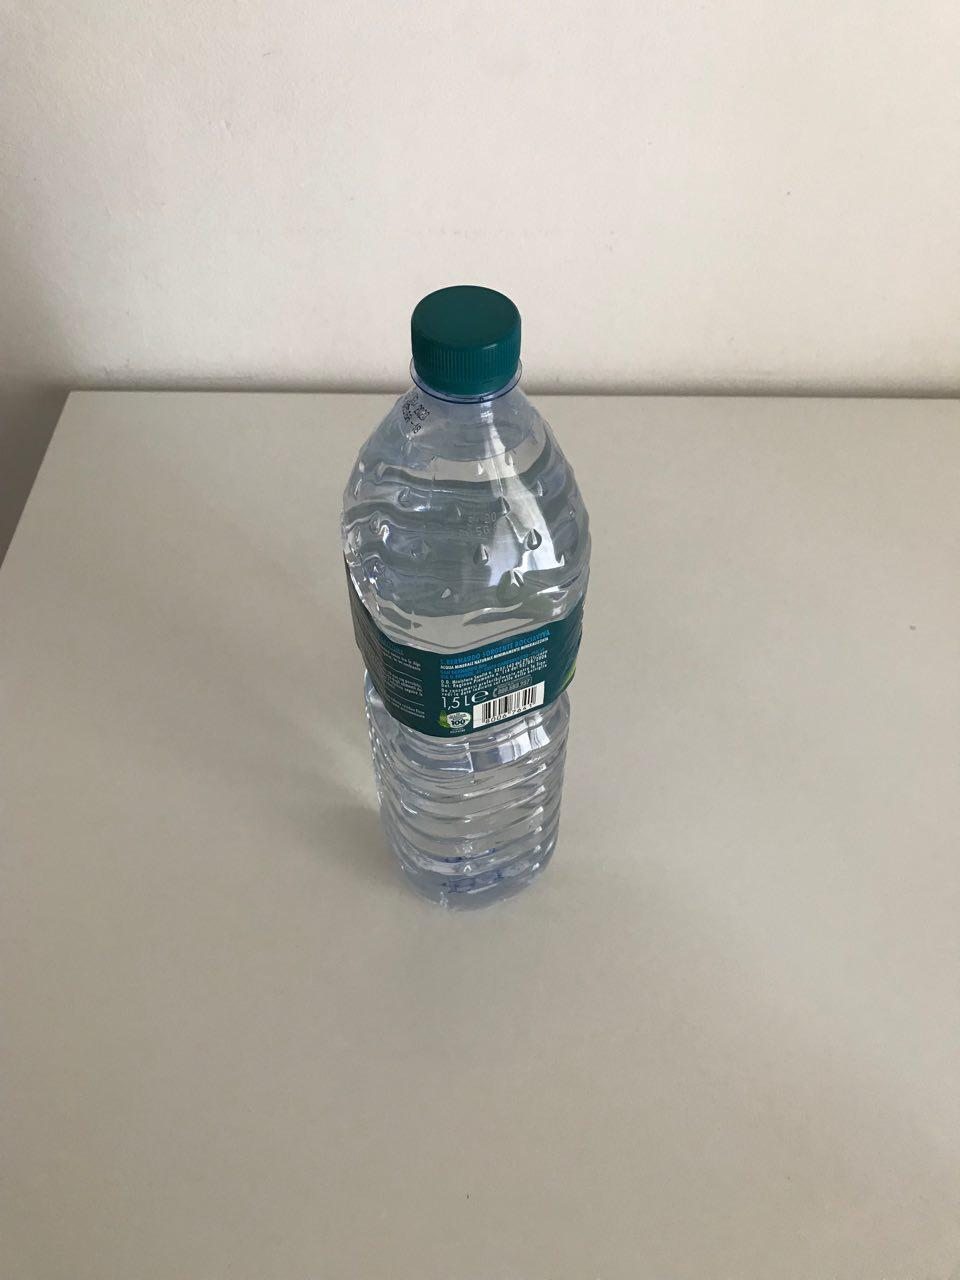san_bernardo: (337, 282, 594, 915)
